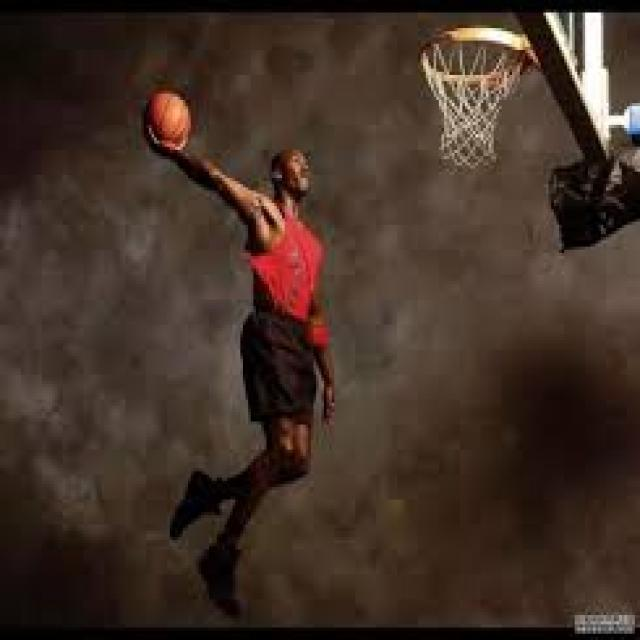rim: (146, 88, 191, 140)
